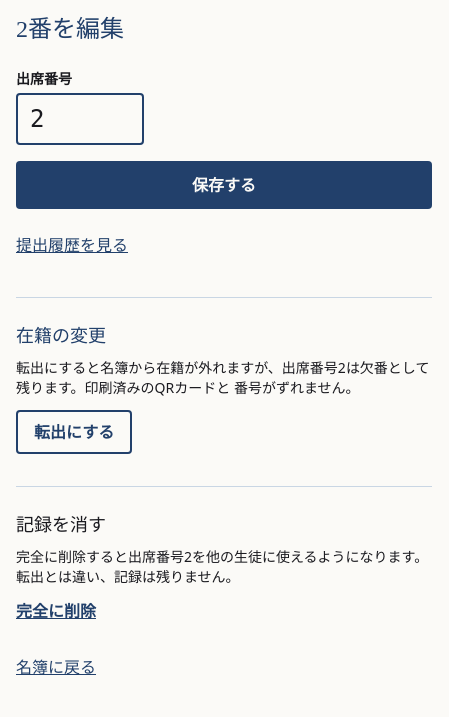
Test: 保存 › 他の生徒の番号と重なれば拒否する
Replace the text in the number field labelled "出席番号" with "1" at (80, 119), box [16,93,144,145]
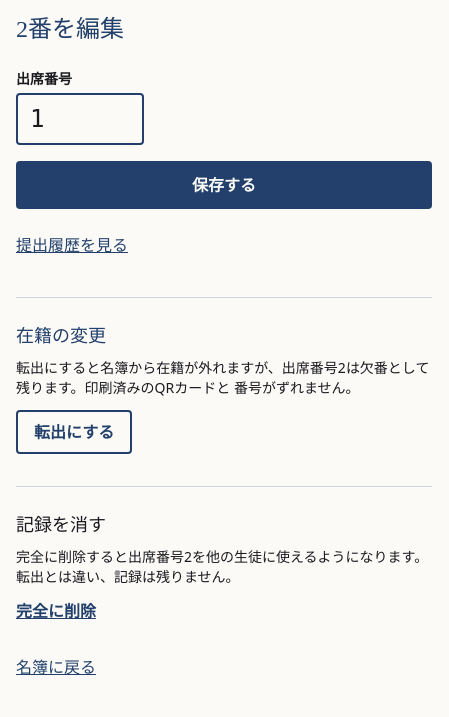
Click the button "保存する" at (224, 185), box [16,161,432,209]
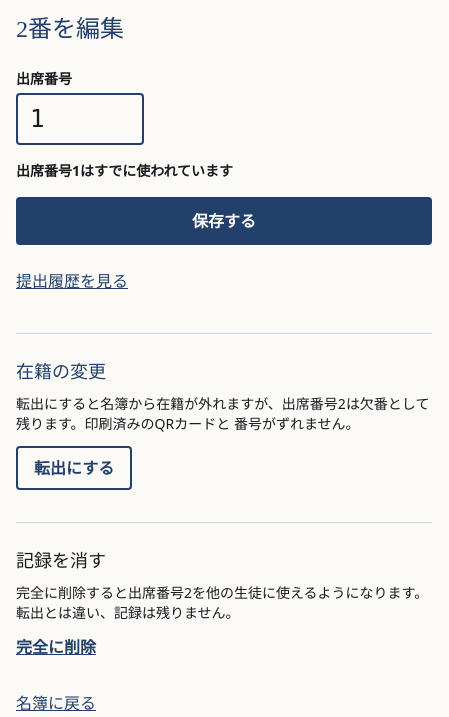
Expected: the text "出席番号1はすでに使われています" is shown, [16,161,233,180]
